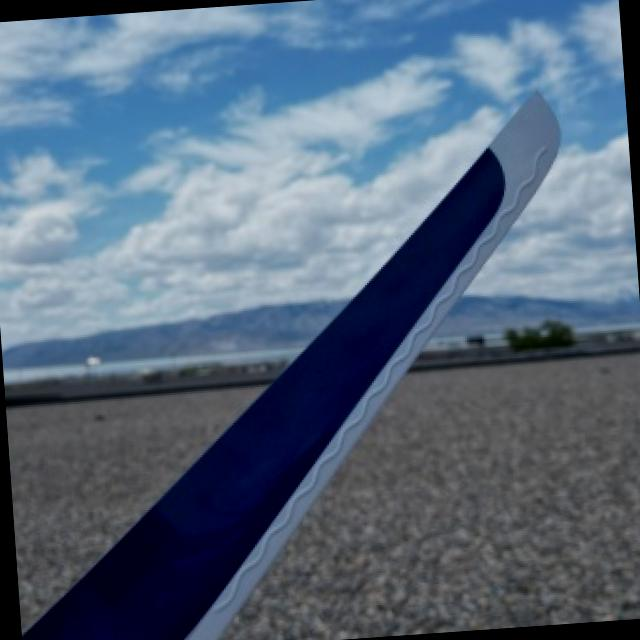healthy: (21, 93, 556, 640)
